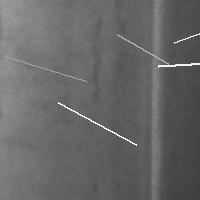scratches: (53, 98, 141, 150), (0, 51, 91, 86), (148, 1, 163, 198), (112, 29, 173, 68), (85, 18, 107, 105), (169, 8, 200, 47), (153, 58, 200, 71)
